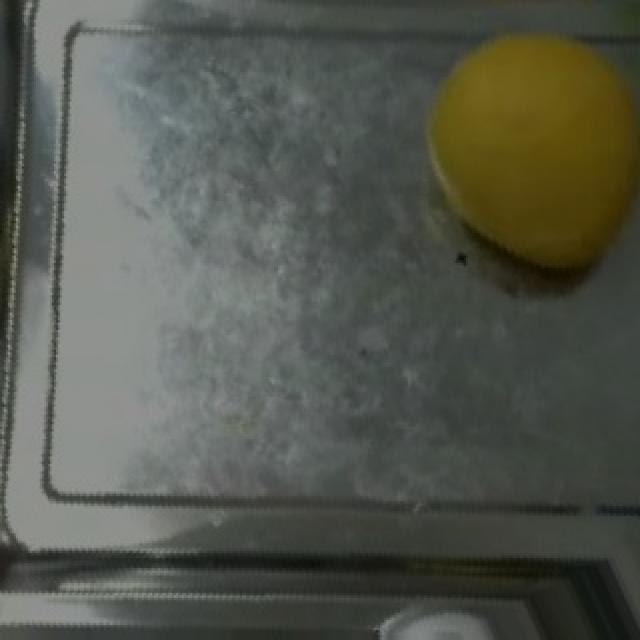fruit: (398, 3, 640, 305)
